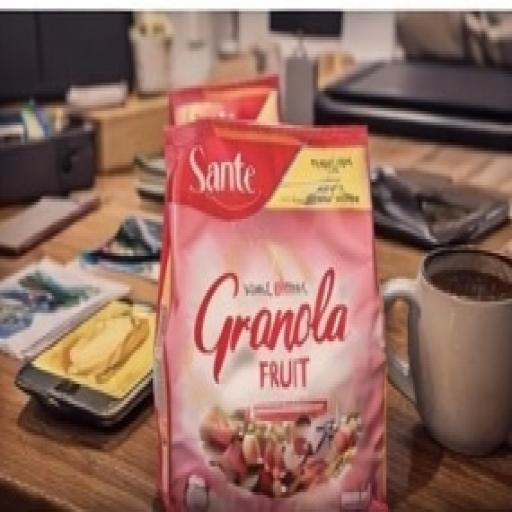granola: (152, 114, 394, 512)
